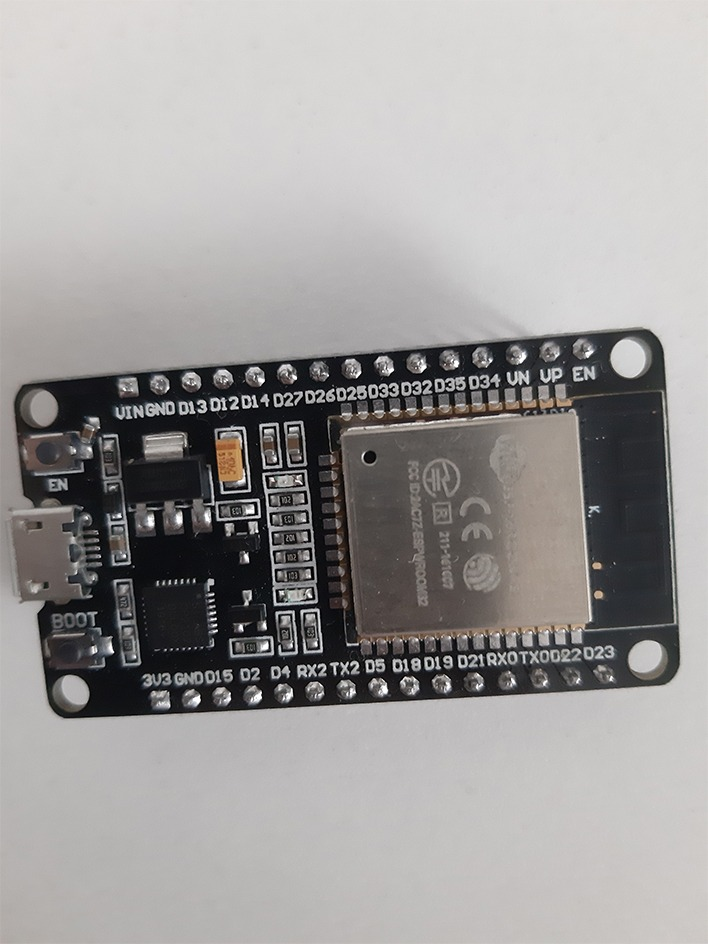ESP32-WROOM: (8, 322, 708, 752)
